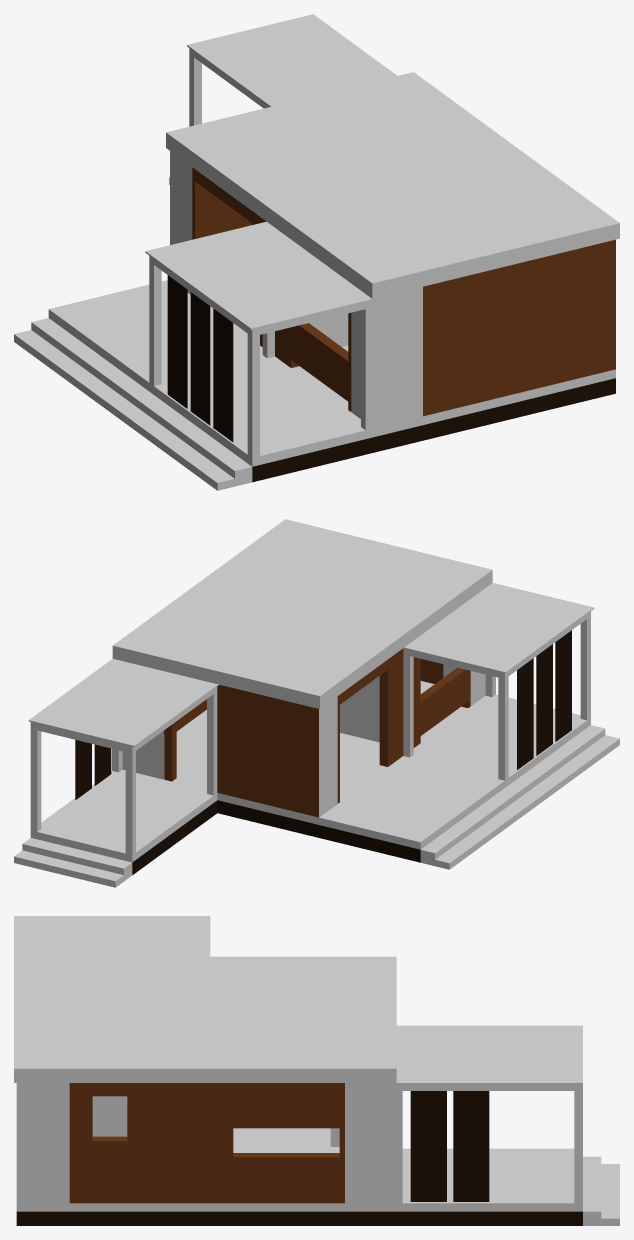
Rendered from domek_11_27_09_rewizja2.gltf.
3 renders of one model, top to bottom at view 1: azimuth 30°, elevation 25°; view 2: azimuth 150°, elevation 25°; view 3: azimuth 270°, elevation 25°, orthographic. The views are drawn at different scales.
Parts seen in each view (by area): view 1: poludnie, zach_drewno, pn taras; view 2: poludnie, zach_drewno, pn taras; view 3: poludnie, zach_drewno, pn taras.
Part boxes in pixels (<box>): poludnie: <box>14,14,619,490</box>; zach_drewno: <box>192,167,615,416</box>; pn taras: <box>167,275,615,482</box>; poludnie: <box>14,519,619,887</box>; zach_drewno: <box>164,648,470,817</box>; pn taras: <box>75,630,571,875</box>; poludnie: <box>14,916,619,1225</box>; zach_drewno: <box>69,1083,344,1203</box>; pn taras: <box>16,1091,582,1225</box>.
Bounding box in the file's own units: 8.1 × 3.3 × 11.43.
